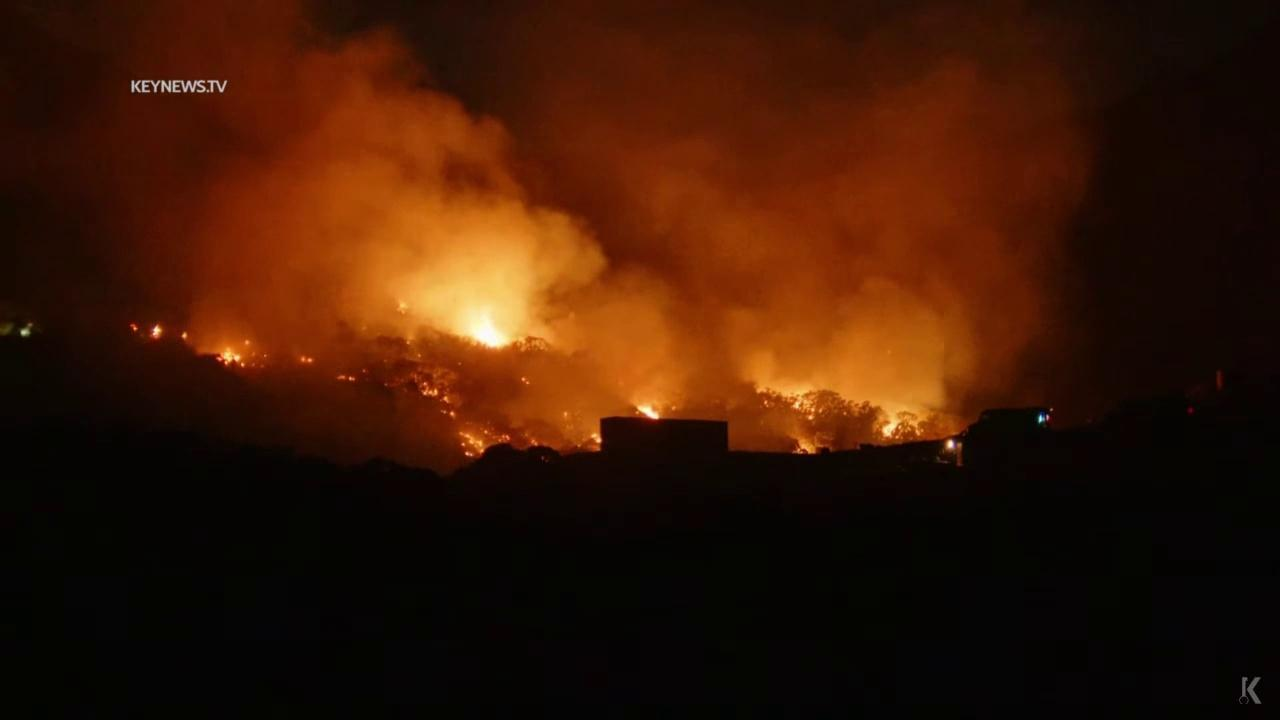fire: (462, 309, 512, 351), (452, 429, 486, 459), (408, 371, 439, 397), (789, 395, 819, 421), (214, 345, 245, 368), (631, 401, 661, 421), (877, 421, 903, 438), (149, 320, 166, 341), (395, 298, 412, 315), (335, 373, 358, 384), (128, 319, 141, 335), (588, 432, 604, 444), (299, 354, 313, 365), (440, 394, 450, 405), (181, 329, 188, 343), (449, 411, 456, 418)
smoke: (0, 0, 1116, 468)
